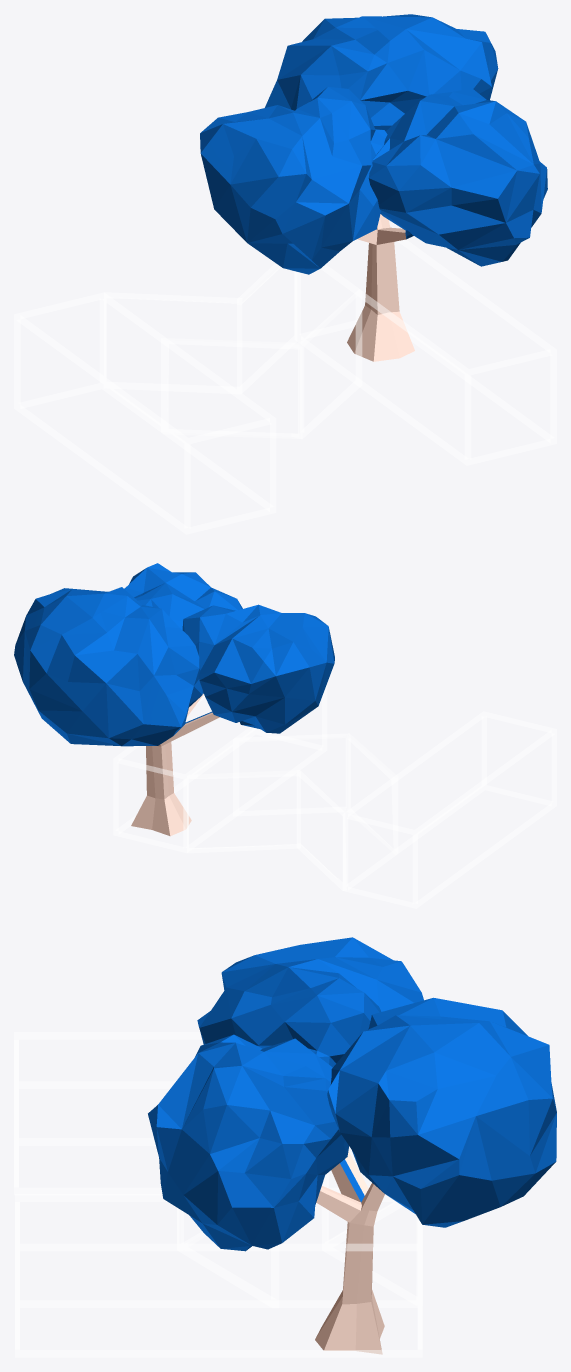
Rendered from m-tree-blue.gltf.
3 renders of one model, top to bottom at view 1: azimuth 30°, elevation 25°; view 2: azimuth 150°, elevation 25°; view 3: azimuth 270°, elevation 25°, orthographic. The views are drawn at different scales.
Parts seen in each view (by area): view 1: Tree_average_lush, Cube, Tree_average_lush.001; view 2: Tree_average_lush, Cube, Tree_average_lush.001; view 3: Tree_average_lush, Cube, Tree_average_lush.001.
Boxes of the visible parts, x1,y1,x2,y2 form: Tree_average_lush: (200, 14, 547, 274); Cube: (14, 239, 556, 534); Tree_average_lush.001: (347, 214, 414, 361); Tree_average_lush: (14, 563, 334, 746); Cube: (113, 685, 556, 908); Tree_average_lush.001: (131, 693, 219, 836); Tree_average_lush: (148, 937, 556, 1251); Cube: (14, 1032, 422, 1357); Tree_average_lush.001: (315, 1151, 384, 1354).
Size of the model in its own units: 10.65 by 6.13 by 8.82.
